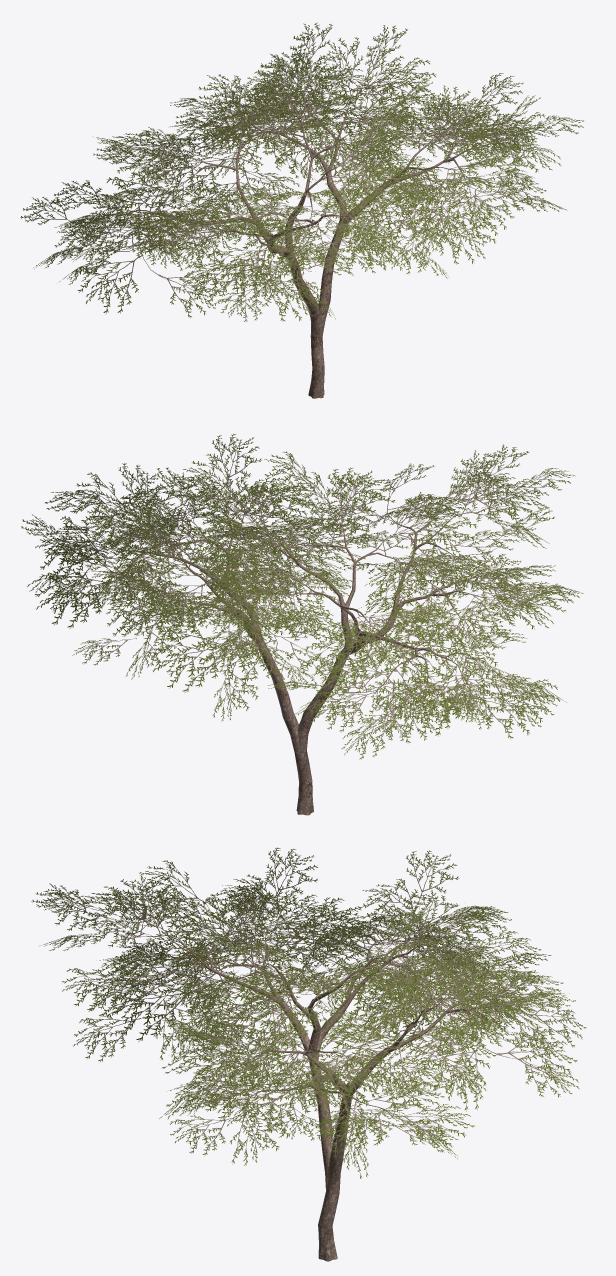
The model's file is acacia.glb.
3 views of the same model, one above another, from view 1: azimuth 30°, elevation 25°; view 2: azimuth 150°, elevation 25°; view 3: azimuth 270°, elevation 25° (orthographic). The views are drawn at different scales.
Visible parts, largest first — view 1: acacia branch_1, bark05_0; view 2: acacia branch_1, bark05_0; view 3: acacia branch_1, bark05_0.
Boxes of the visible parts, left/top/right/bottom form: acacia branch_1: left=20, top=22, right=583, bottom=321; bark05_0: left=76, top=63, right=531, bottom=398; acacia branch_1: left=21, top=433, right=583, bottom=759; bark05_0: left=79, top=477, right=514, bottom=815; acacia branch_1: left=31, top=847, right=586, bottom=1178; bark05_0: left=95, top=900, right=538, bottom=1261.
Bounding box in the file's own units: 12.8 × 6.91 × 10.39.
2 materials, 2 textured.
